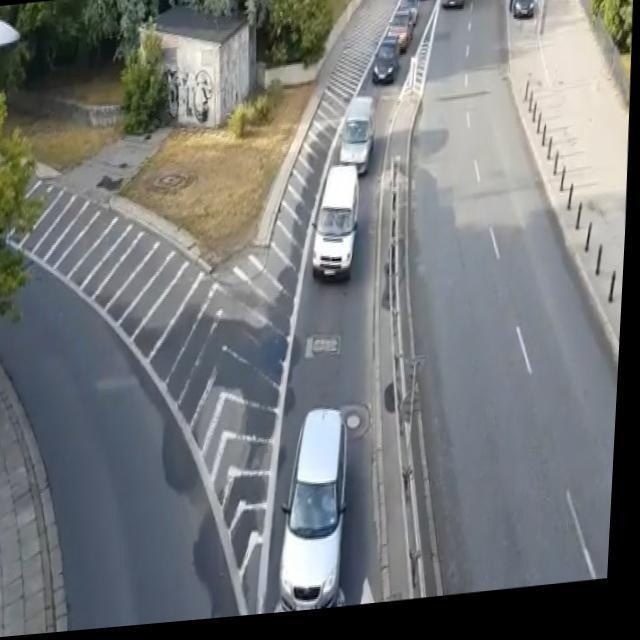Car: (274, 401, 358, 619), (309, 164, 367, 299), (332, 90, 378, 178), (368, 34, 404, 96), (388, 7, 418, 55), (504, 0, 540, 20)
